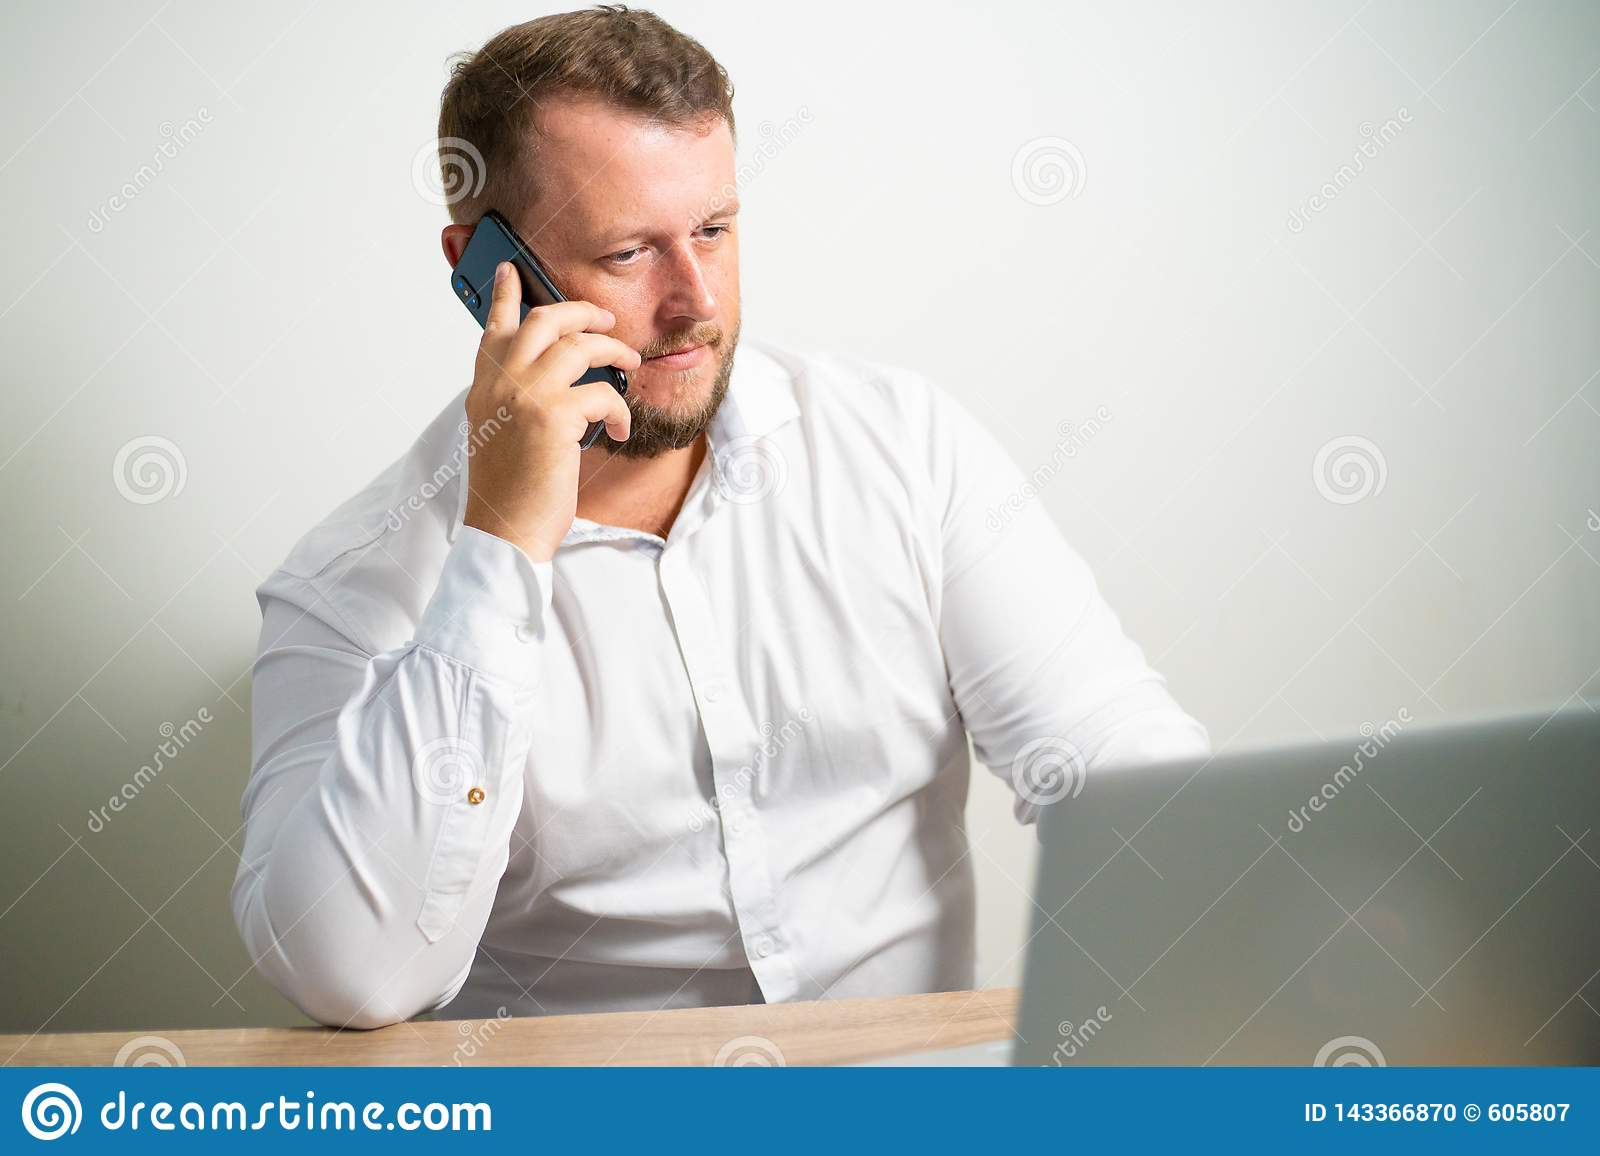phone: (448, 207, 627, 452)
talk: (442, 205, 743, 528)
